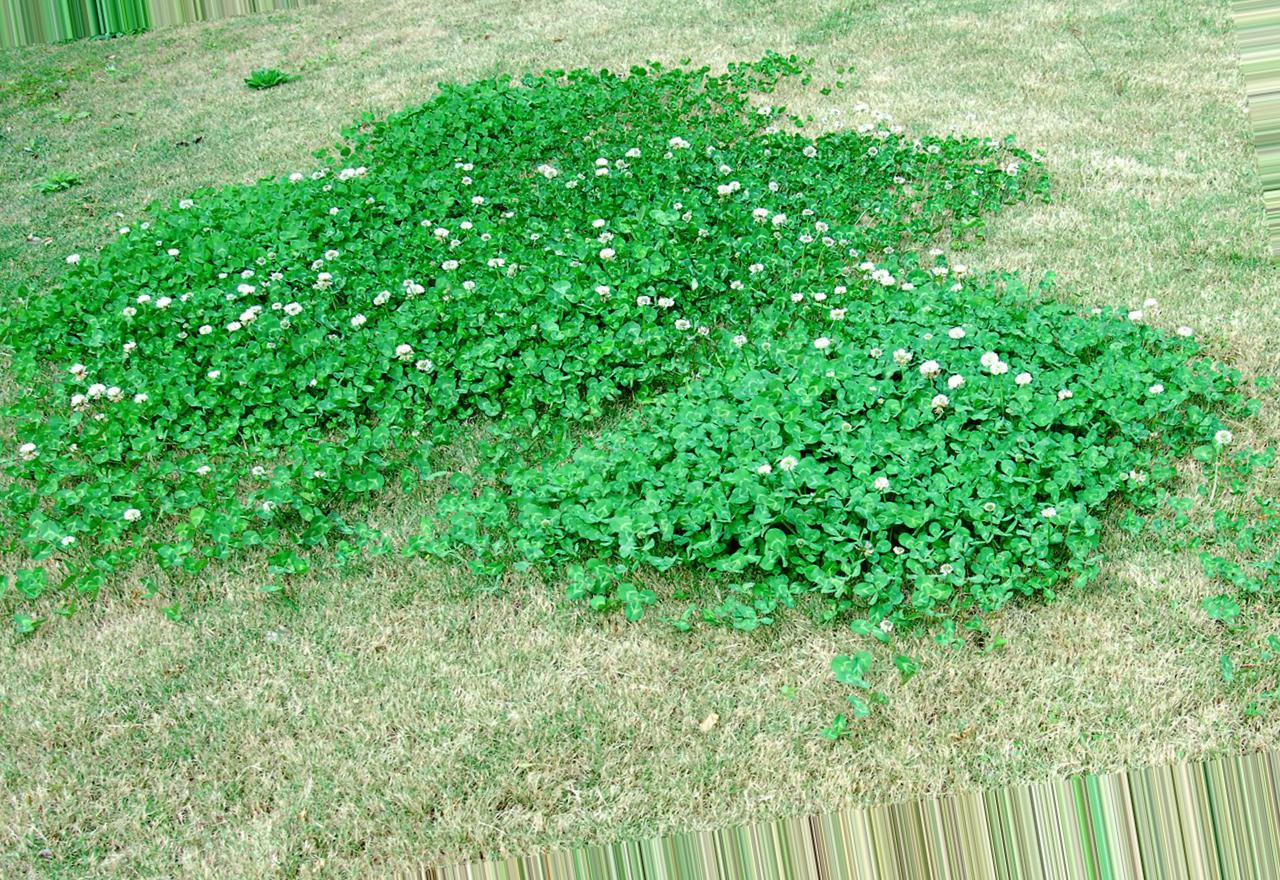patch: (331, 608, 713, 808), (1075, 616, 1190, 727), (1081, 134, 1160, 193)
